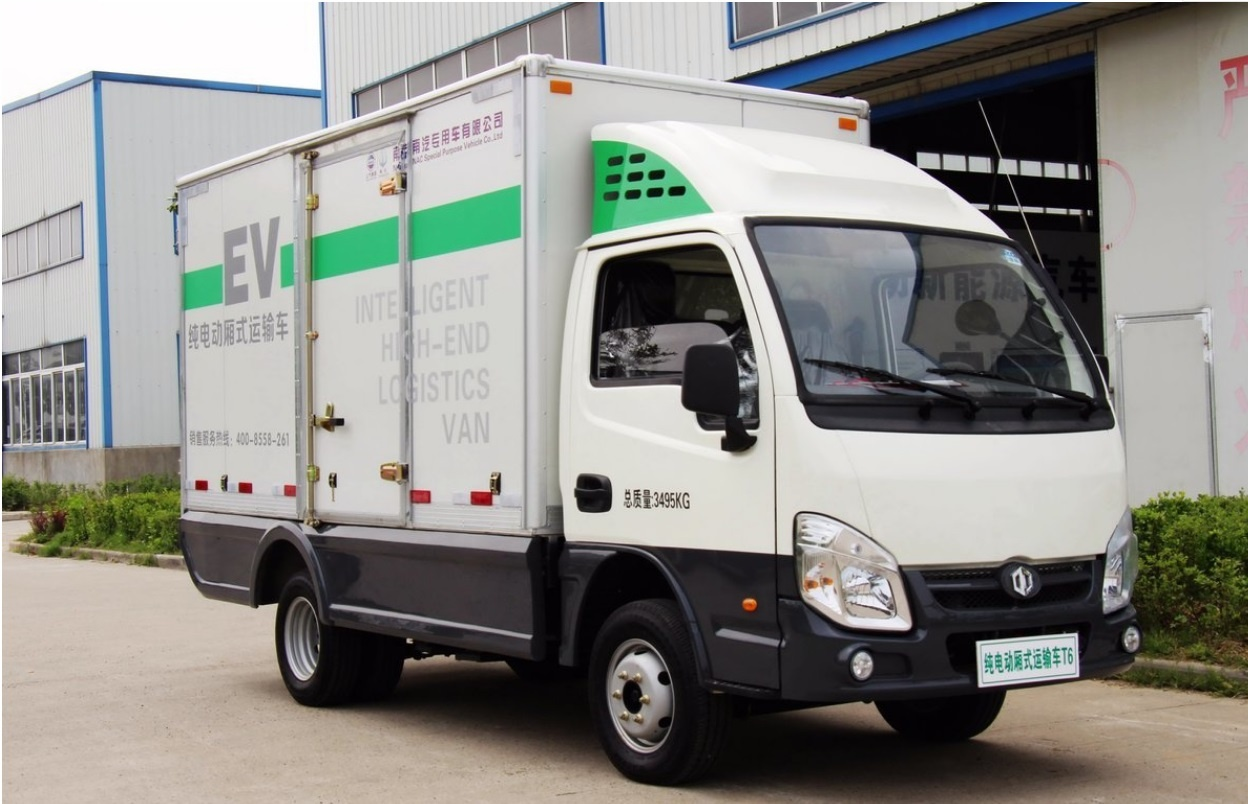truck: (136, 104, 1166, 763)
